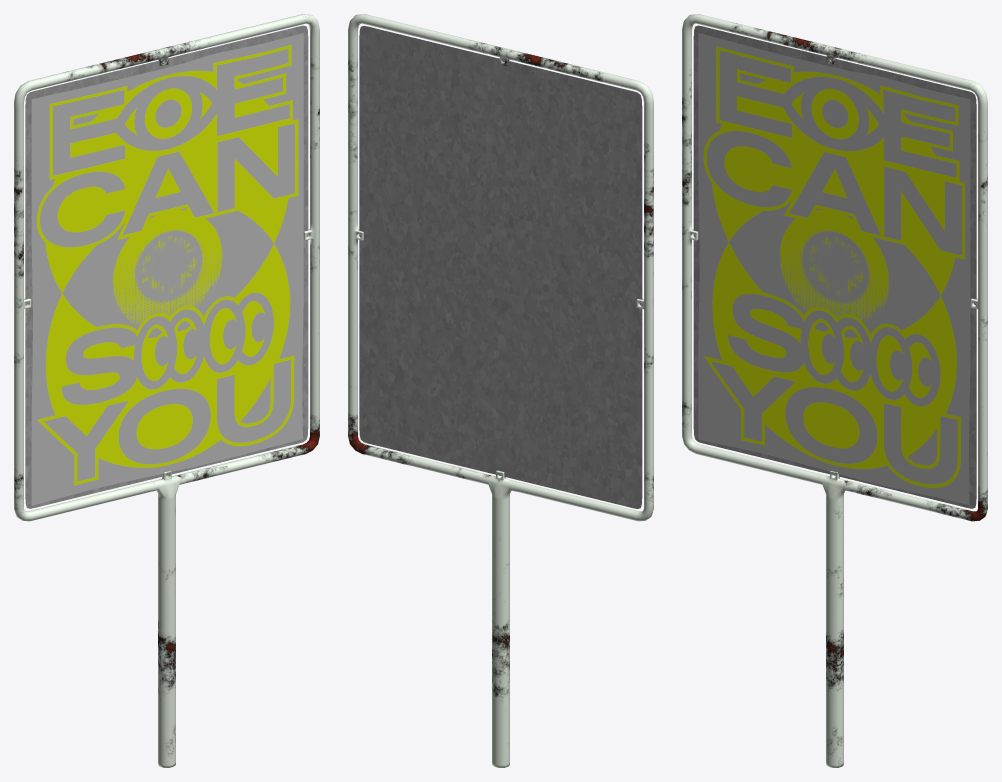
Rendered from plakat Ständer.glb.
The picture shows the model from 3 angles, left to right: view 1: azimuth 30°, elevation 25°; view 2: azimuth 150°, elevation 25°; view 3: azimuth 330°, elevation 25°; orthographic projection.
Visible parts, largest first — view 1: Plane, Cylinder, Plane.001; view 2: Plane.001, Cylinder; view 3: Plane, Cylinder, Plane.001.
Part boxes in pixels (box(x1,y1,x2,y2)): Plane: box(31, 33, 303, 505); Cylinder: box(14, 14, 319, 767); Plane.001: box(25, 25, 308, 508); Plane.001: box(359, 26, 642, 508); Cylinder: box(348, 14, 653, 767); Plane: box(698, 33, 970, 504); Cylinder: box(682, 14, 987, 767); Plane.001: box(693, 25, 976, 508).
Bounding box in the file's own units: 1 × 2.25 × 0.0484.
Materials: 3 (3 with a texture image).
